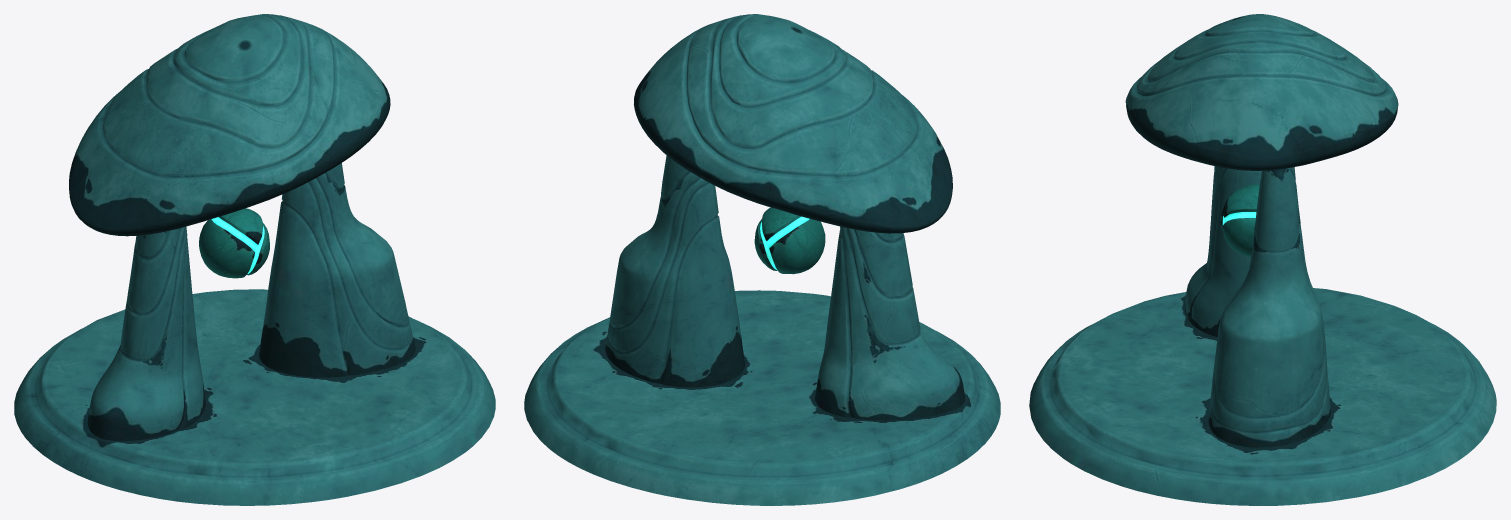
The model's file is sky_shrine_a_soma.glb.
The picture shows the model from 3 angles, left to right: view 1: azimuth 30°, elevation 25°; view 2: azimuth 150°, elevation 25°; view 3: azimuth 270°, elevation 25°; orthographic projection.
Visible parts, largest first — view 1: shrine_a; view 2: shrine_a; view 3: shrine_a.
Boxes of the visible parts, x1,y1,x2,y2 form: shrine_a: (14, 14, 495, 505); shrine_a: (524, 14, 1000, 505); shrine_a: (1029, 14, 1496, 505).
Size of the model in its own units: 2.38 by 2.09 by 2.3.
1 material, 1 textured.
